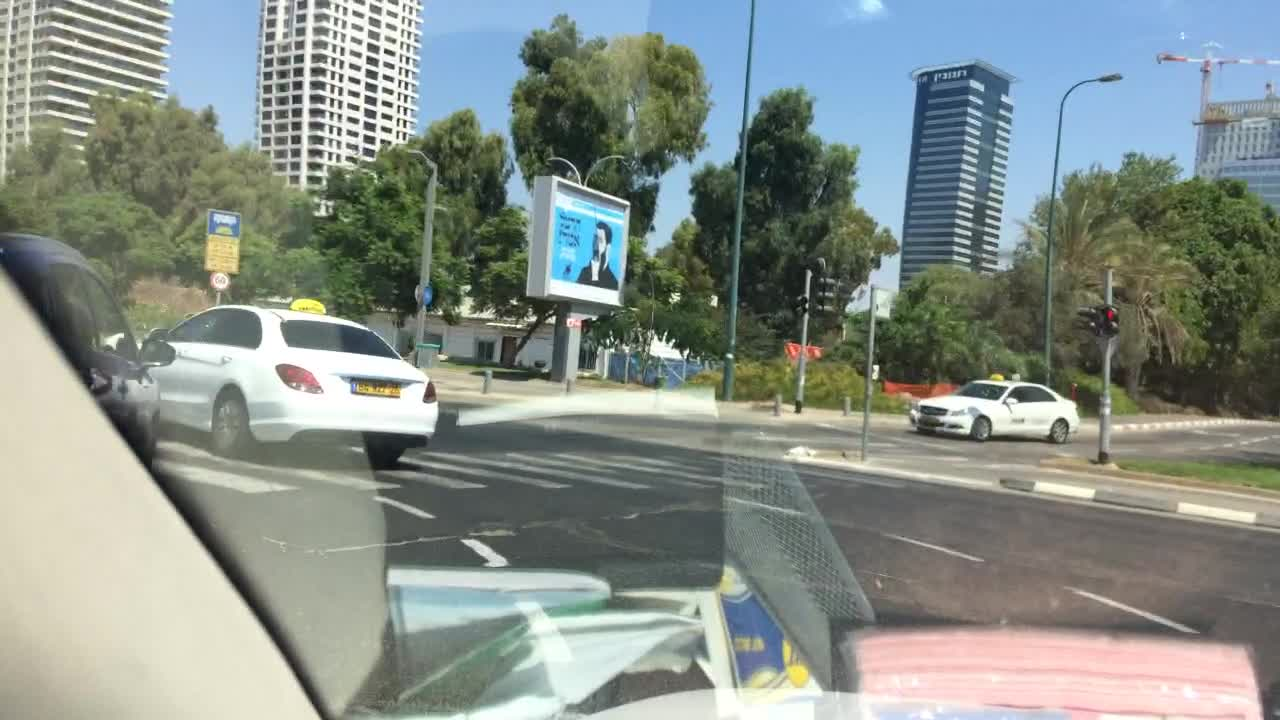car: (120, 296, 444, 471), (0, 230, 179, 470), (906, 376, 1079, 444)
traffic light: (812, 274, 838, 314), (1076, 303, 1101, 339), (1102, 303, 1125, 338), (796, 293, 811, 321)
traffic sign: (201, 207, 240, 274), (873, 289, 893, 321), (207, 272, 237, 291), (422, 281, 438, 309), (781, 338, 803, 358), (413, 285, 432, 306), (870, 360, 879, 385)
